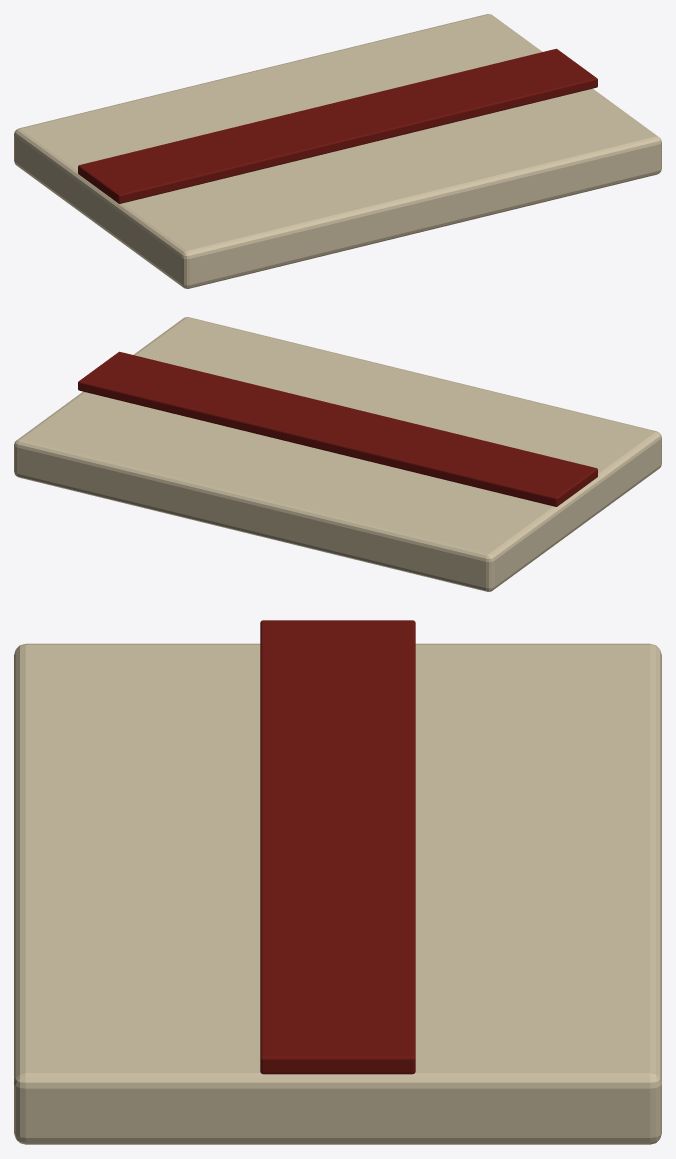
Rendered from hospital_badge.glb.
3 renders of one model, top to bottom at view 1: azimuth 30°, elevation 25°; view 2: azimuth 150°, elevation 25°; view 3: azimuth 270°, elevation 25°, orthographic. The views are drawn at different scales.
Visible parts, largest first — view 1: hospital_badge; view 2: hospital_badge; view 3: hospital_badge.
Part boxes in pixels (x1,y1,x2,y2): hospital_badge: (14, 14, 661, 288); hospital_badge: (14, 317, 661, 591); hospital_badge: (14, 620, 661, 1144).
Bounding box in the file's own units: 0.16 × 0.0155 × 0.1.
